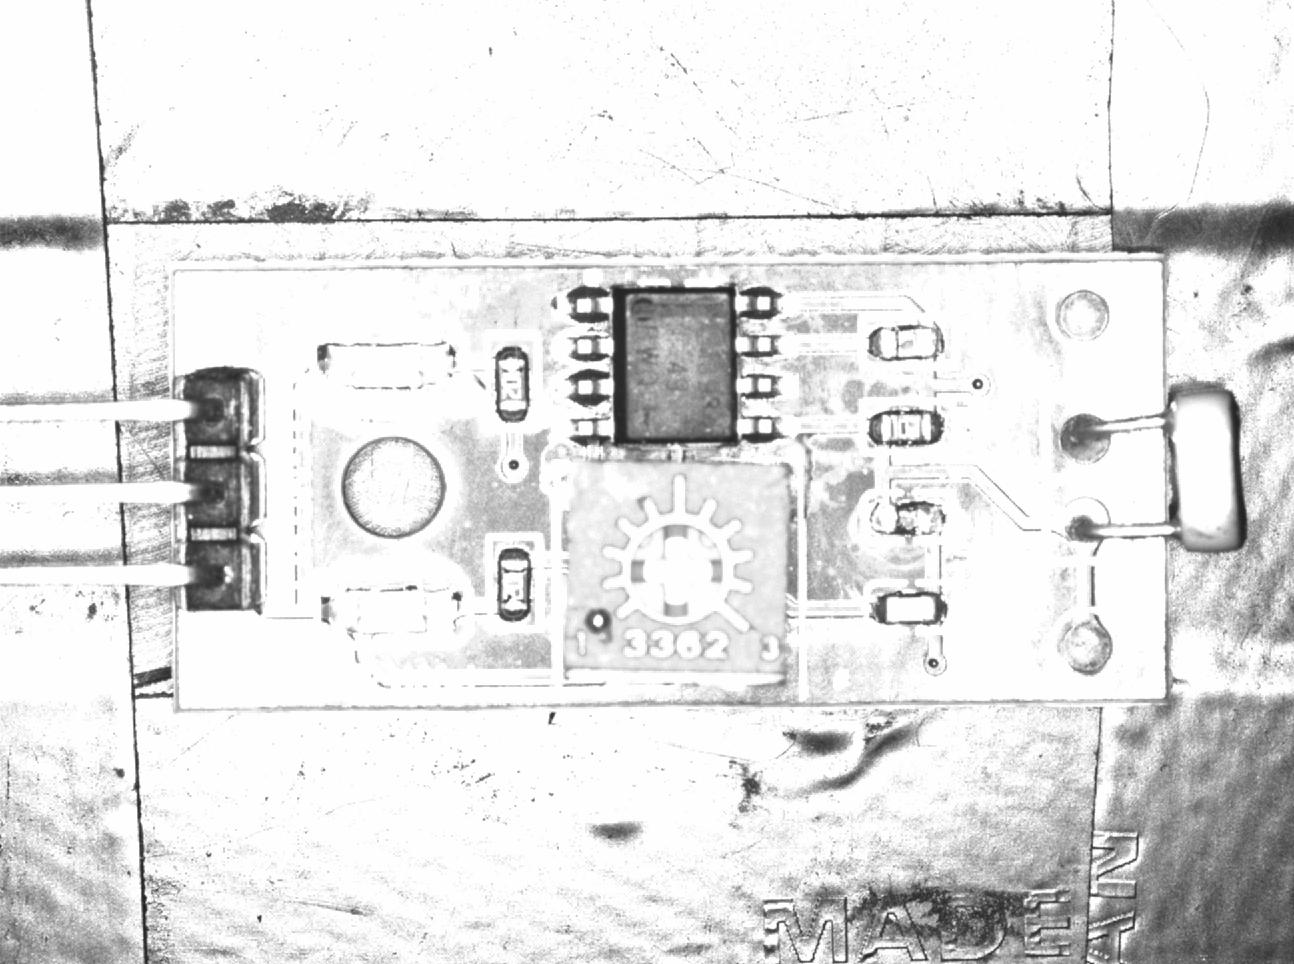miss: (860, 489, 958, 546), (860, 315, 949, 369)
ok: (486, 533, 544, 638), (485, 331, 540, 433), (859, 399, 954, 455), (866, 581, 956, 635)
